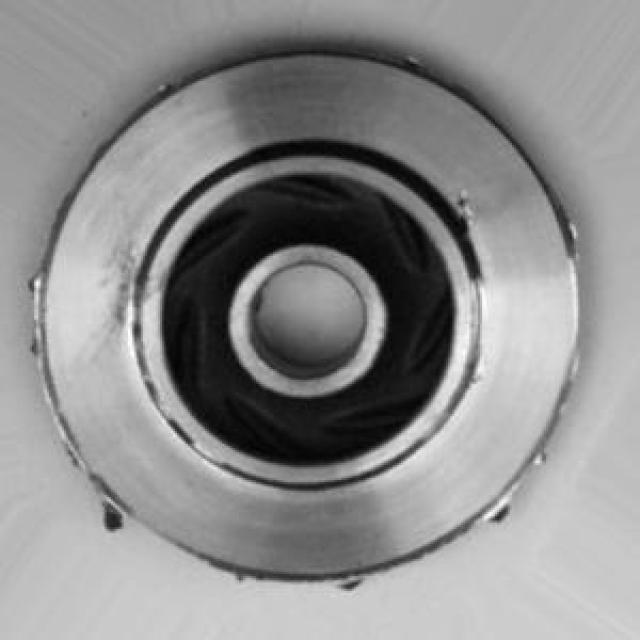Defect: (76, 483, 139, 545), (448, 197, 494, 257)
